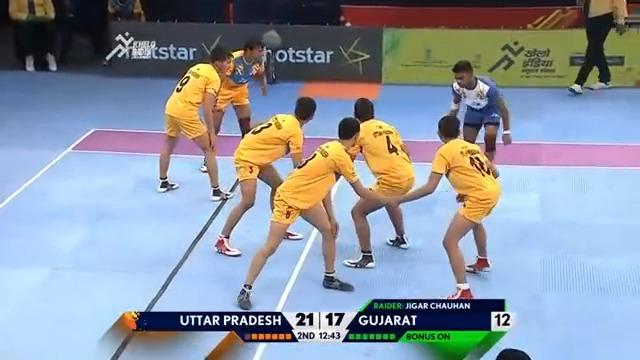Player: (235, 116, 377, 309), (381, 114, 501, 299), (213, 96, 318, 256), (342, 96, 415, 268), (156, 44, 234, 201), (199, 38, 267, 172)
Raider: (447, 59, 512, 178)
referee: (566, 0, 627, 95), (8, 0, 58, 71), (57, 0, 110, 65)
